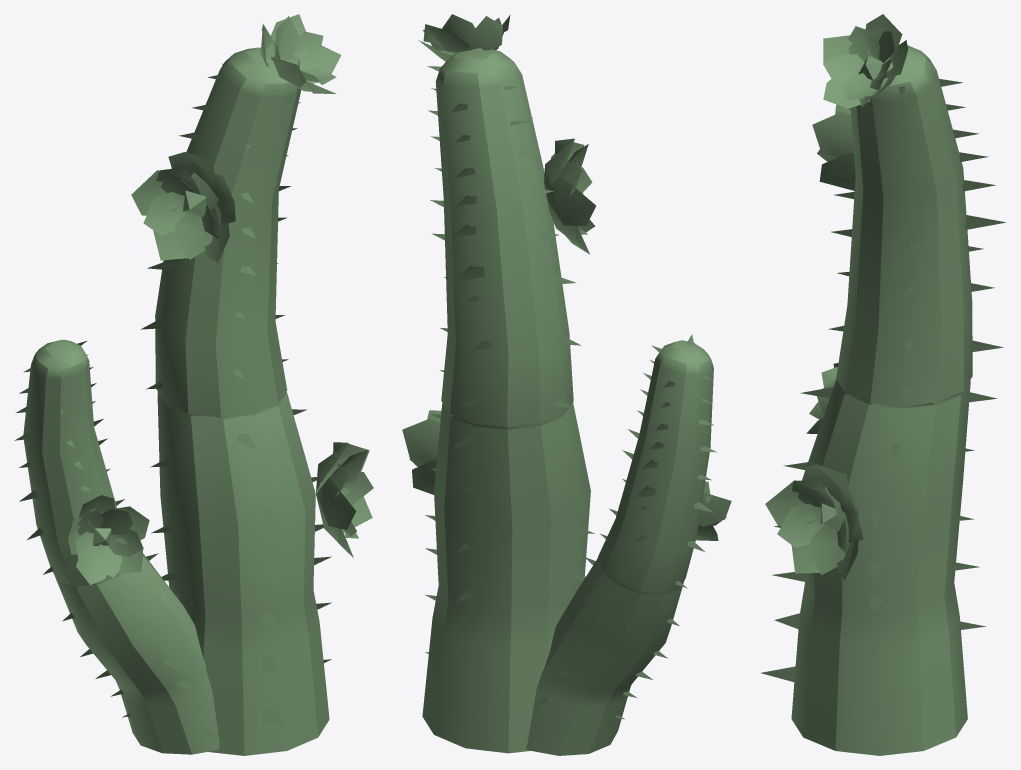
File: Cactus_4.fbx
The picture shows the model from 3 angles, left to right: view 1: azimuth 30°, elevation 25°; view 2: azimuth 150°, elevation 25°; view 3: azimuth 270°, elevation 25°; orthographic projection. The views are drawn at different scales.
Visible parts, largest first — view 1: cactus_, cactus_3, flower, flower3, flower1, flower2; view 2: cactus_, cactus_3, flower, flower2, flower1, flower3; view 3: cactus_, flower1, flower2, flower, flower3.
Boxes of the visible parts, box(x1,y1,x2,y2) form: cactus_: box(140, 42, 331, 755); cactus_3: box(14, 339, 219, 754); flower: box(131, 152, 235, 262); flower3: box(68, 495, 149, 584); flower1: box(316, 442, 373, 557); flower2: box(260, 14, 341, 93); cactus_: box(422, 48, 594, 753); cactus_3: box(526, 334, 716, 755); flower: box(544, 138, 596, 254); flower2: box(418, 14, 510, 61); flower1: box(402, 410, 441, 494); flower3: box(696, 481, 731, 540); cactus_: box(761, 45, 1006, 755); flower1: box(765, 464, 863, 580); flower2: box(823, 14, 907, 108); flower: box(812, 104, 855, 190); flower3: box(806, 363, 838, 433).
Size of the model in its own units: 0.9925 by 1.97 by 0.6136.
